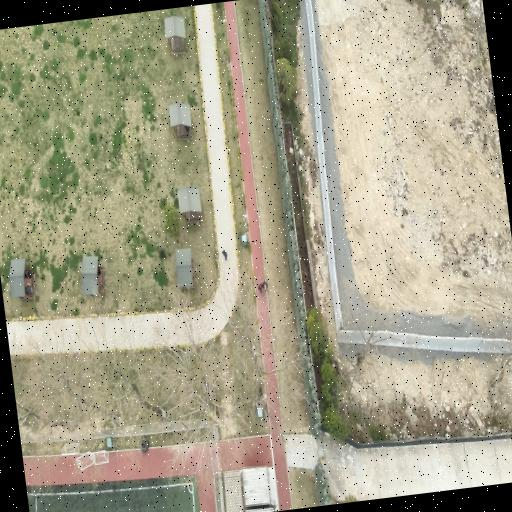person: (24, 284, 32, 295), (24, 270, 31, 279), (221, 250, 226, 260), (262, 281, 267, 290), (257, 284, 262, 293)
